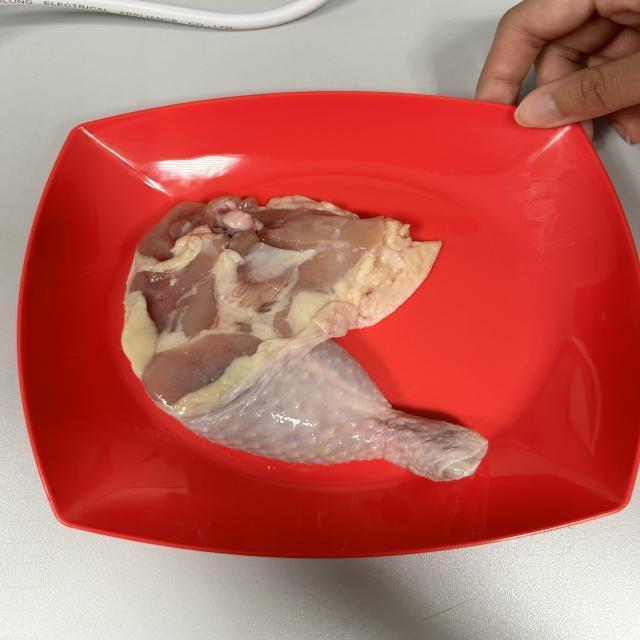quater: (111, 178, 478, 486)
